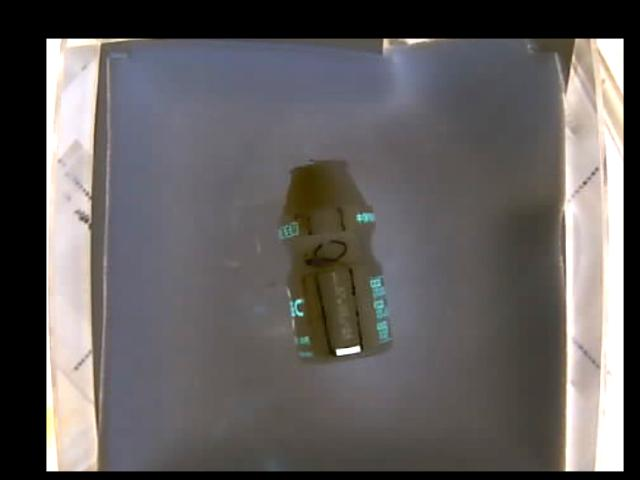Bottle: (280, 159, 392, 364)
